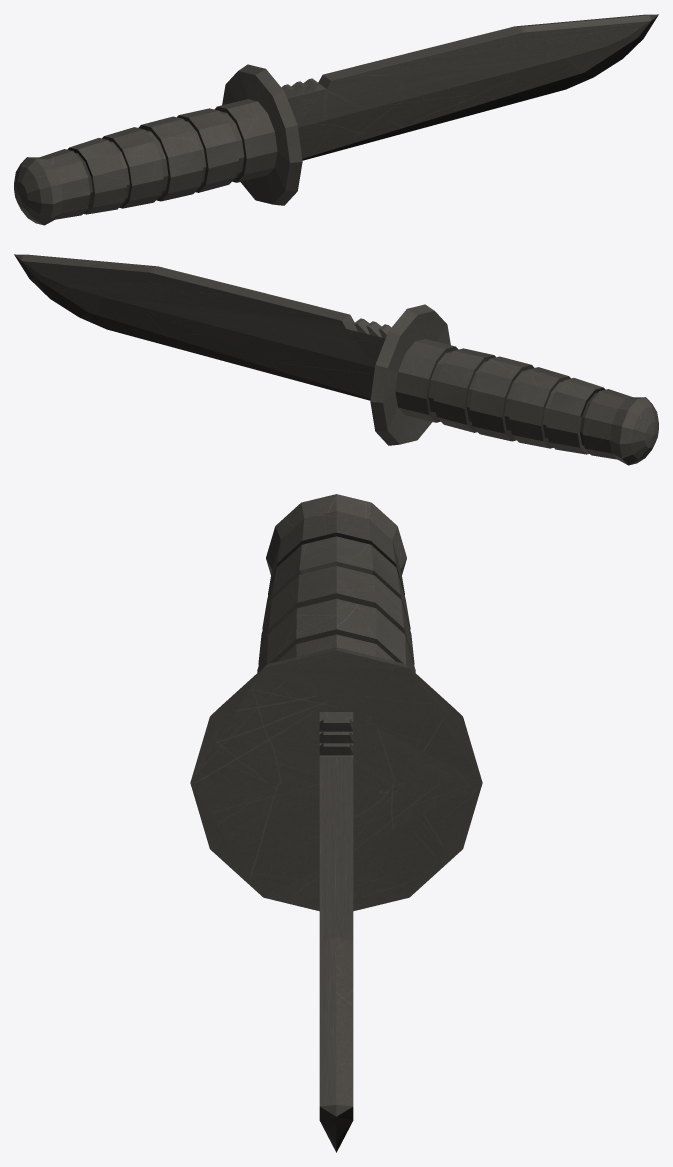
The model's file is Knife 1.fbx.
3 renders of one model, top to bottom at view 1: azimuth 30°, elevation 25°; view 2: azimuth 150°, elevation 25°; view 3: azimuth 270°, elevation 25°, orthographic. The views are drawn at different scales.
Visible parts, largest first — view 1: Knife; view 2: Knife; view 3: Knife.
Boxes of the visible parts, <box> form: Knife: <box>14,14,658,225</box>; Knife: <box>14,254,658,465</box>; Knife: <box>190,494,482,1152</box>.
Bounding box in the file's own units: 2.42 × 0.4793 × 0.4793.
